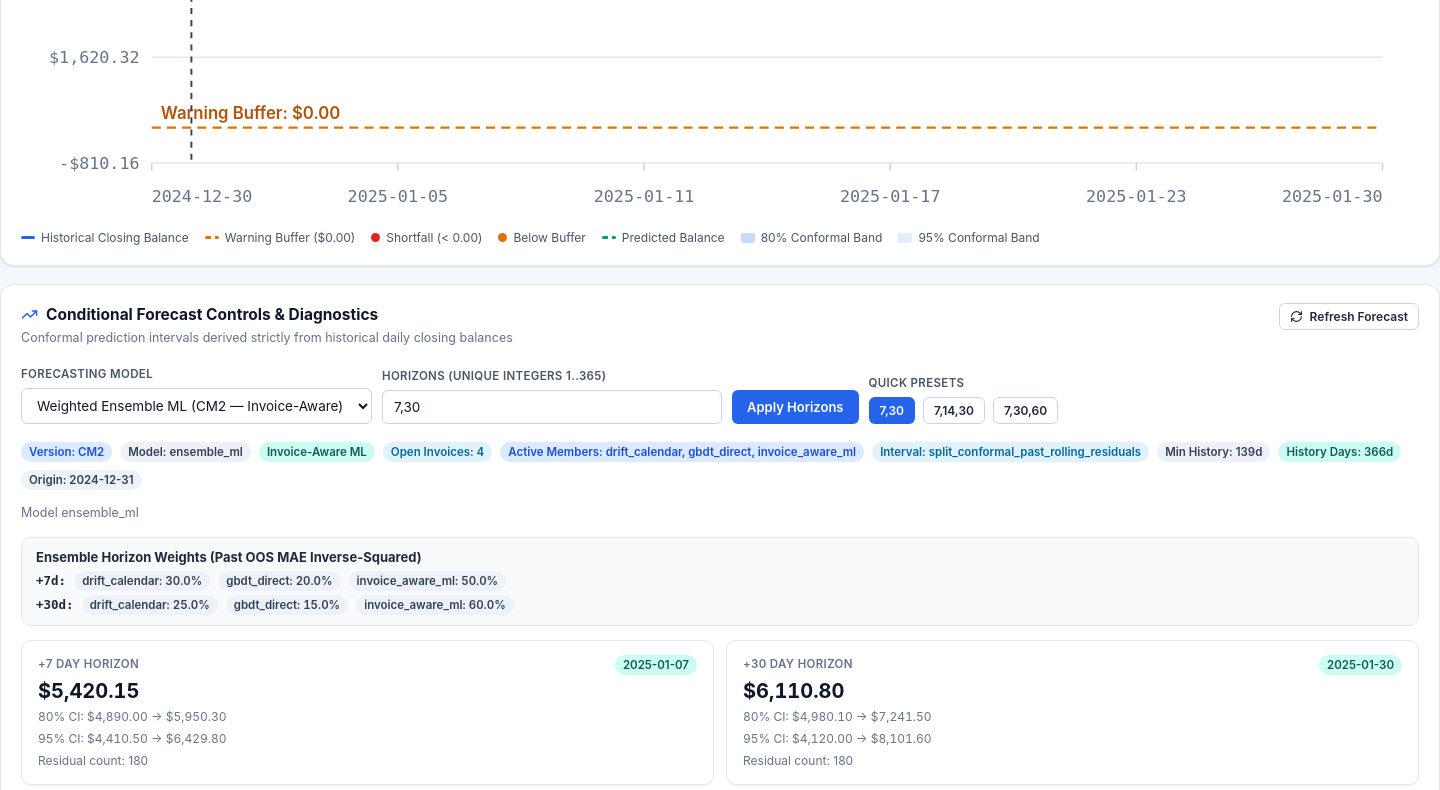
Test: CM2 Forecast Model Selection and Provenance UI › defaults CashFlowForecastView to ensemble_ml, displays Invoice-Aware ML badges and ensemble weight diagnostics, and switches models
The image size is (1440, 790).
(page scrolled)
Expected: the text "Version: CM2" is shown, [21,442,112,462]
Expected: the text "Model: ensemble_ml" is shown, [120,442,251,462]
// Switch to cash-only gbdt_direct
Select "Gradient Boosting Direct (CM2)" in the dropdown labelled "Forecasting Model". click: [196, 406]
box: [21,388,372,424]
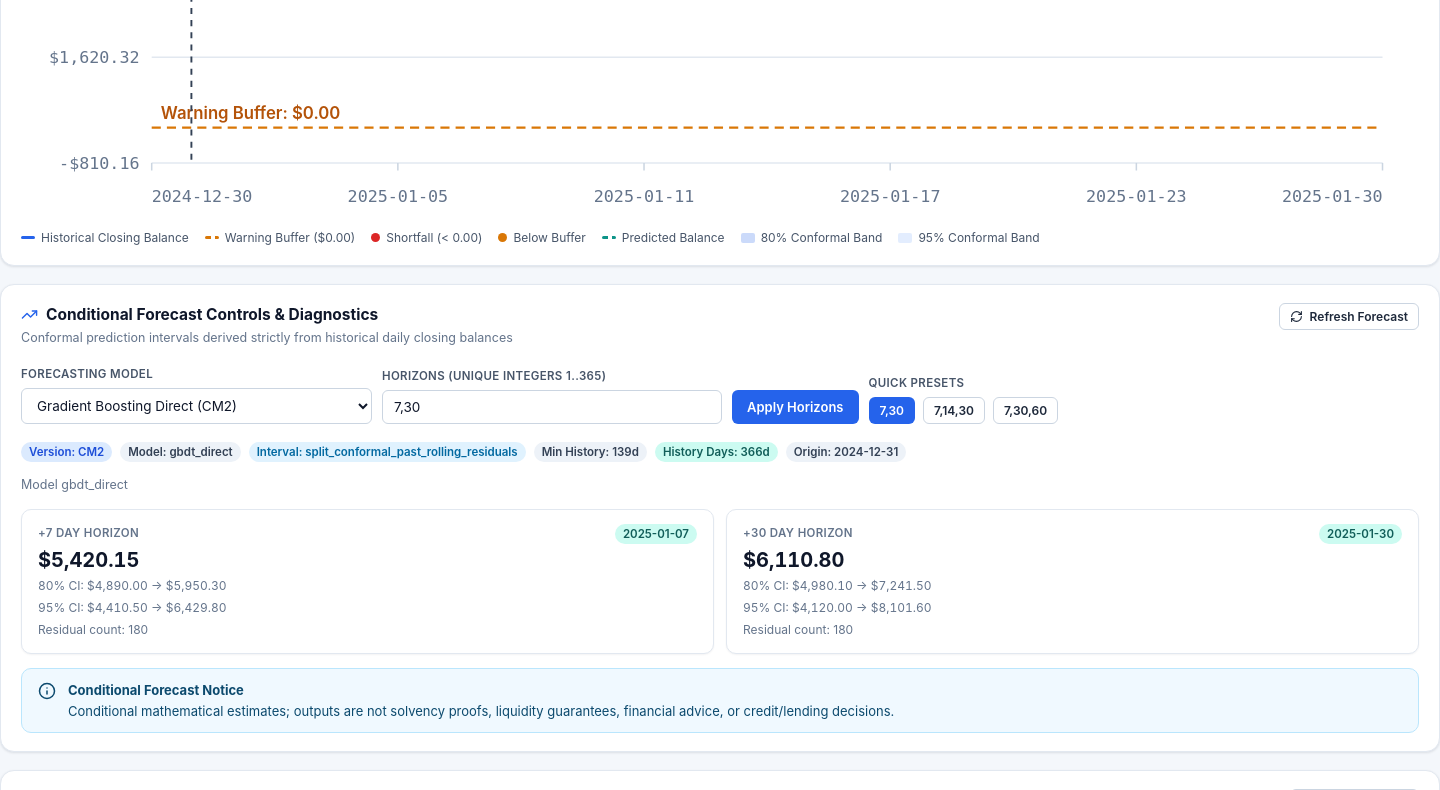
Expected: the text "Model: gbdt_direct" is shown, [120,442,241,462]
Expected: the text "Invoice-Aware ML" is gone
Expected: the text labelled "Ensemble Horizon Weights" is gone
